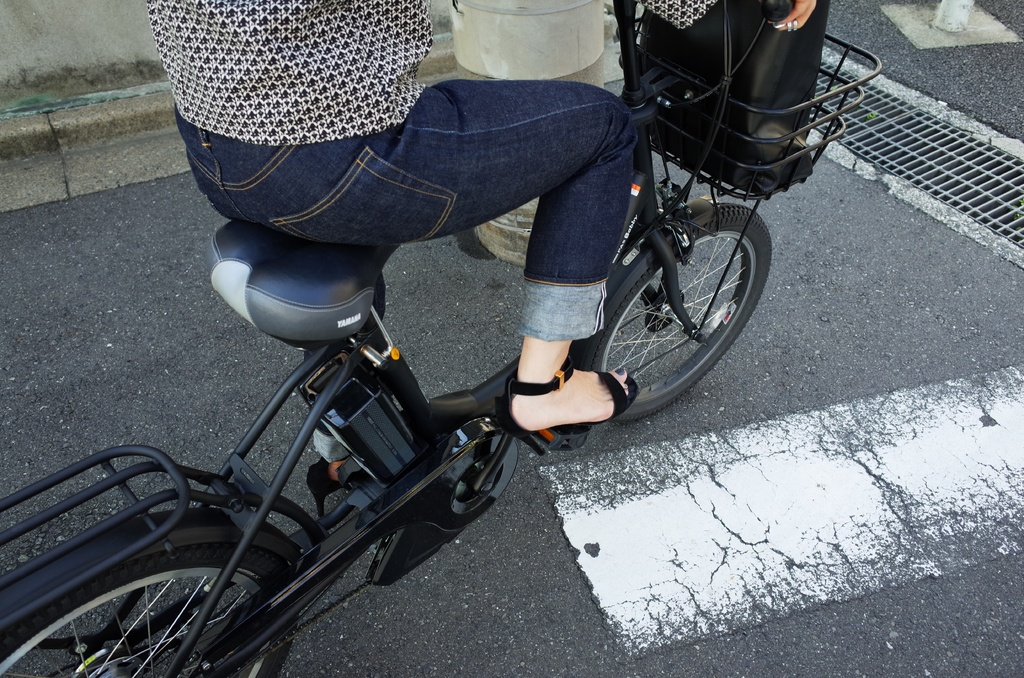Bike: (16, 31, 881, 649)
